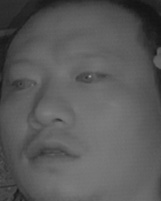eye: (74, 66, 108, 88), (9, 73, 41, 93)
mouth: (26, 134, 87, 172)
